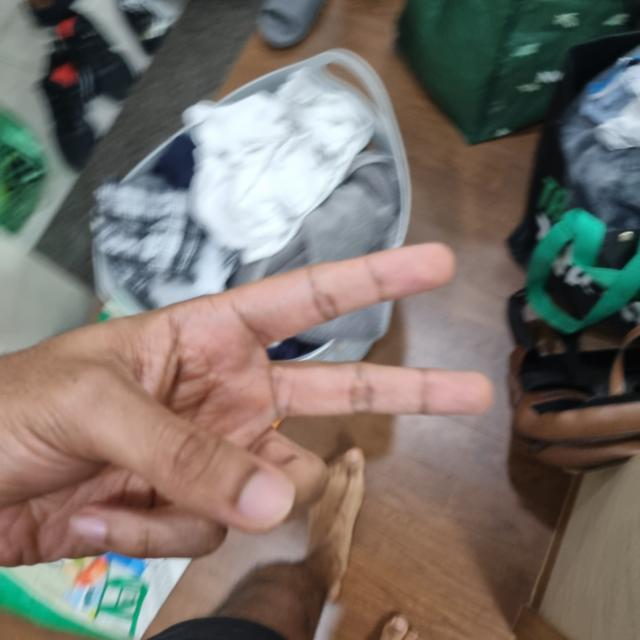Scissors: (0, 251, 482, 589)
